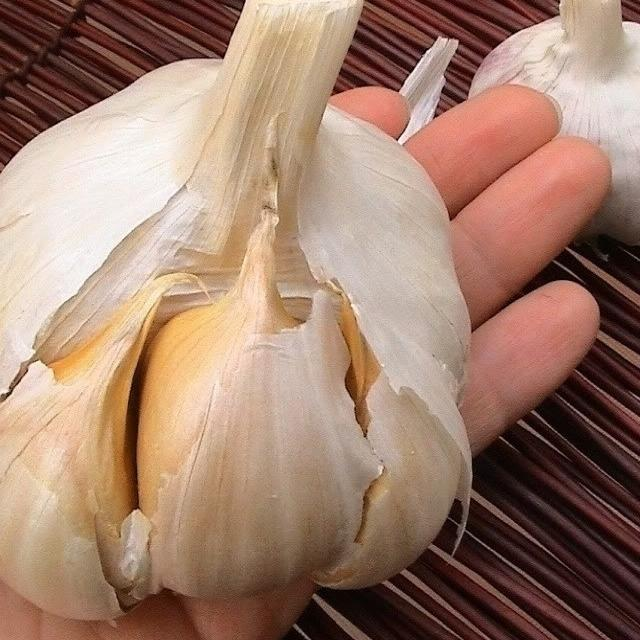garlic: (0, 0, 482, 621), (460, 0, 640, 240)
